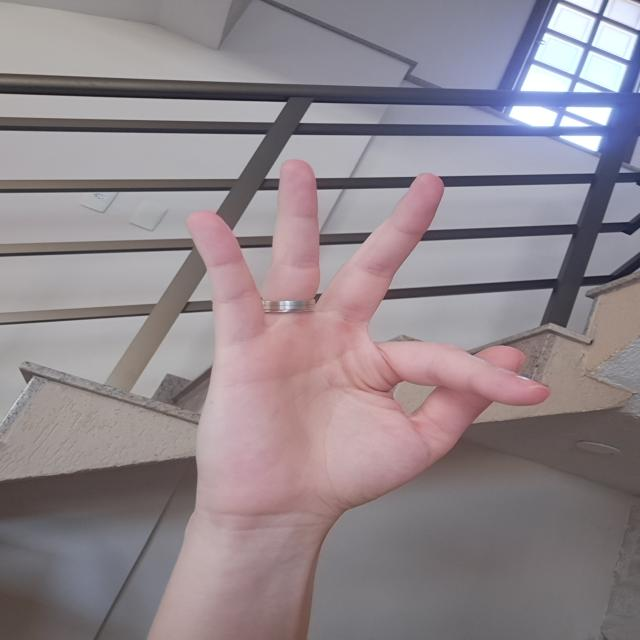F: (173, 149, 552, 535)
